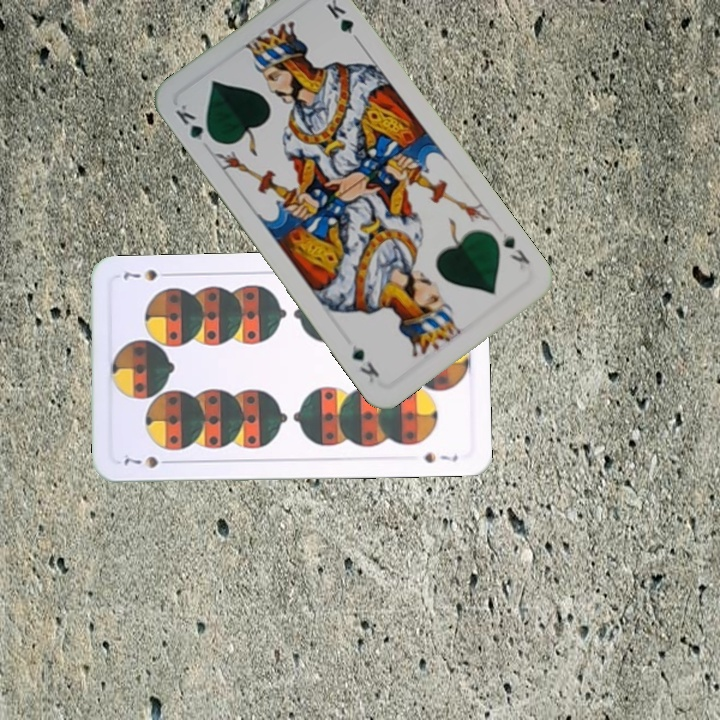GK: (171, 100, 218, 146), (498, 228, 533, 267)
S7: (120, 452, 176, 471)
